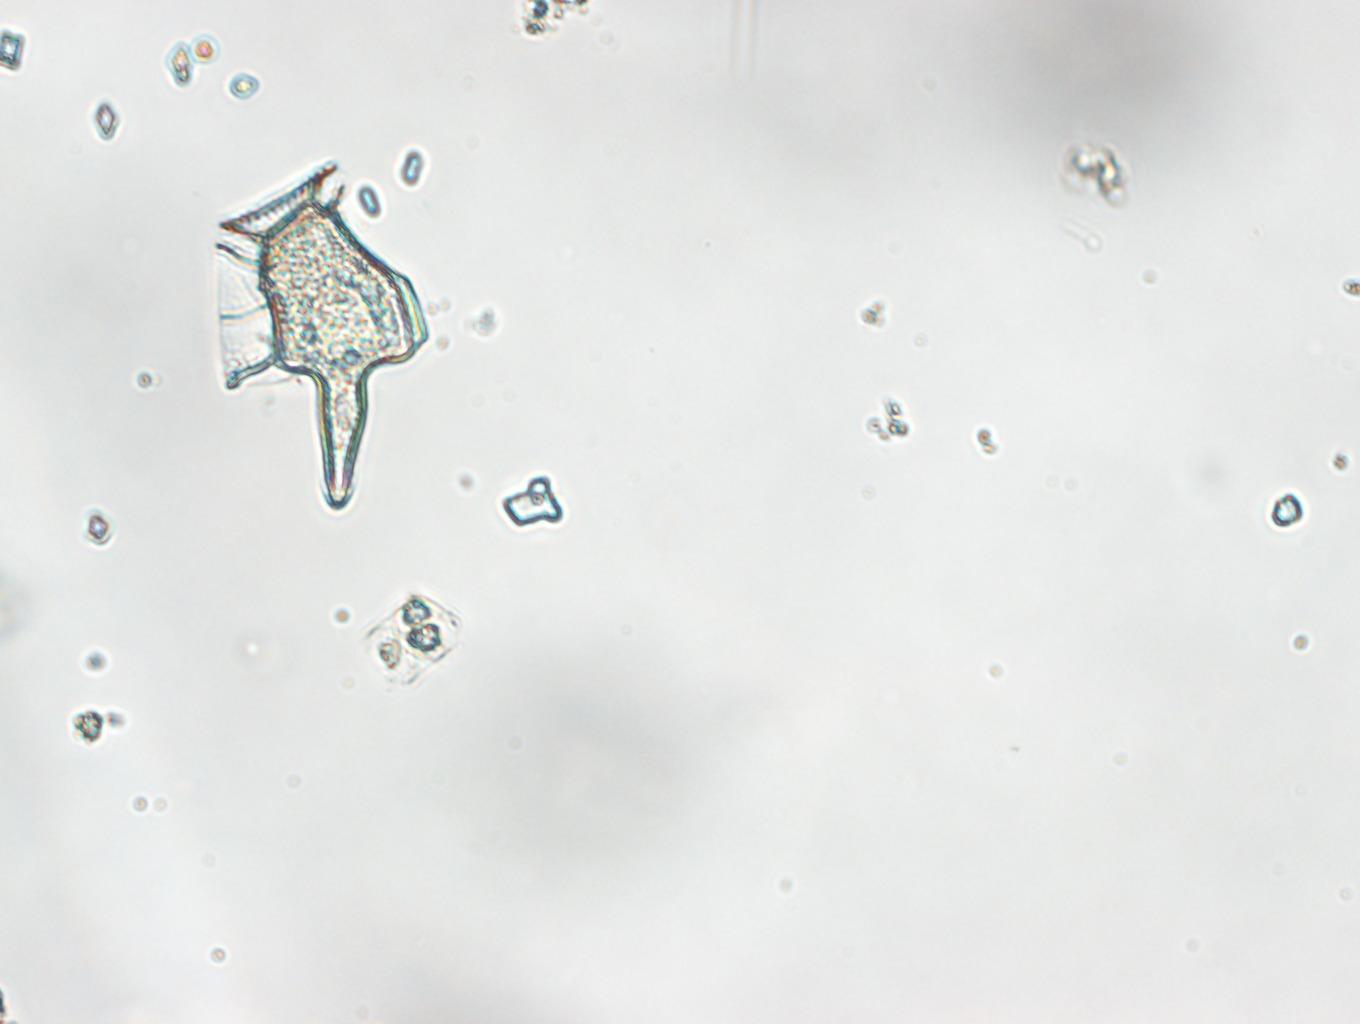dinophysis caudata: (213, 160, 430, 514)
